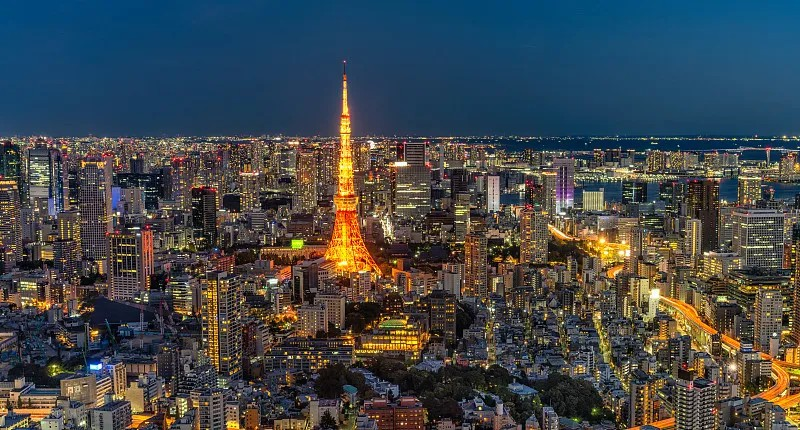Tokyo: (323, 60, 384, 280)
